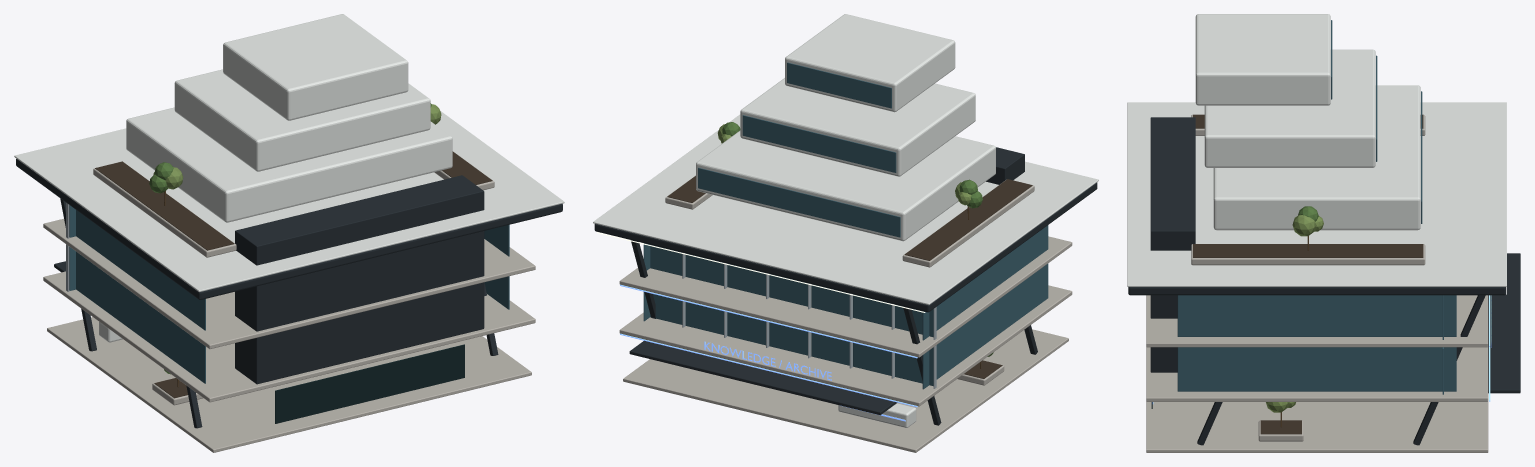
The model's file is knowledge--uXzeoaW.glb.
The picture shows the model from 3 angles, left to right: view 1: azimuth 30°, elevation 25°; view 2: azimuth 150°, elevation 25°; view 3: azimuth 270°, elevation 25°; orthographic projection. The views are drawn at different scales.
Visible parts, largest first — view 1: Knowledge_Pearl, Knowledge_Graphite, Knowledge_Concrete, Knowledge_Glazing, Mission wall.001, Knowledge_Soil; view 2: Knowledge_Pearl, Knowledge_Concrete, Knowledge_Glazing, Knowledge_Graphite, Knowledge_Soil, Knowledge_Blue, Knowledge_Metal, Knowledge_Leaf, Roof perimeter light.002; view 3: Knowledge_Pearl, Knowledge_Concrete, Knowledge_Glazing, Knowledge_Graphite, Knowledge_Soil, Knowledge_LeafLight.
Boxes of the visible parts, x1=… form: Knowledge_Pearl: x1=14, y1=14, x2=564, y2=342; Knowledge_Graphite: x1=16, y1=159, x2=562, y2=428; Knowledge_Concrete: x1=43, y1=151, x2=535, y2=452; Knowledge_Glazing: x1=69, y1=205, x2=509, y2=383; Mission wall.001: x1=275, y1=344, x2=464, y2=423; Knowledge_Soil: x1=95, y1=151, x2=492, y2=398; Knowledge_Pearl: x1=593, y1=14, x2=1098, y2=427; Knowledge_Concrete: x1=619, y1=175, x2=1072, y2=452; Knowledge_Glazing: x1=643, y1=62, x2=1048, y2=389; Knowledge_Graphite: x1=594, y1=147, x2=1097, y2=425; Knowledge_Soil: x1=667, y1=176, x2=1032, y2=378; Knowledge_Blue: x1=620, y1=284, x2=917, y2=421; Knowledge_Metal: x1=682, y1=252, x2=936, y2=388; Knowledge_Leaf: x1=722, y1=122, x2=993, y2=356; Roof perimeter light.002: x1=597, y1=232, x2=925, y2=312; Knowledge_Pearl: x1=1127, y1=14, x2=1506, y2=286; Knowledge_Concrete: x1=1146, y1=114, x2=1488, y2=452; Knowledge_Glazing: x1=1177, y1=20, x2=1456, y2=394; Knowledge_Graphite: x1=1128, y1=117, x2=1520, y2=445; Knowledge_Soil: x1=1193, y1=114, x2=1423, y2=434; Knowledge_LeafLight: x1=1266, y1=214, x2=1323, y2=412.
Size of the model in its own units: 48.2 by 40.44 by 43.7.
